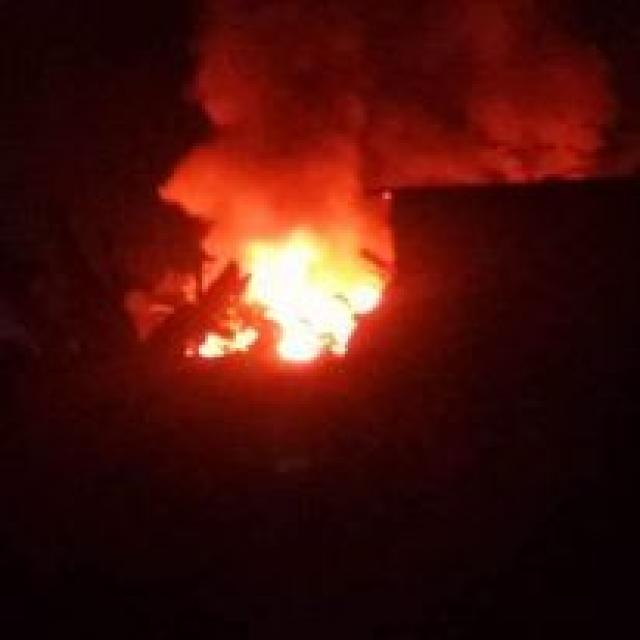Fire: (254, 232, 360, 373)
Smoke: (194, 5, 636, 184), (172, 146, 378, 288)
